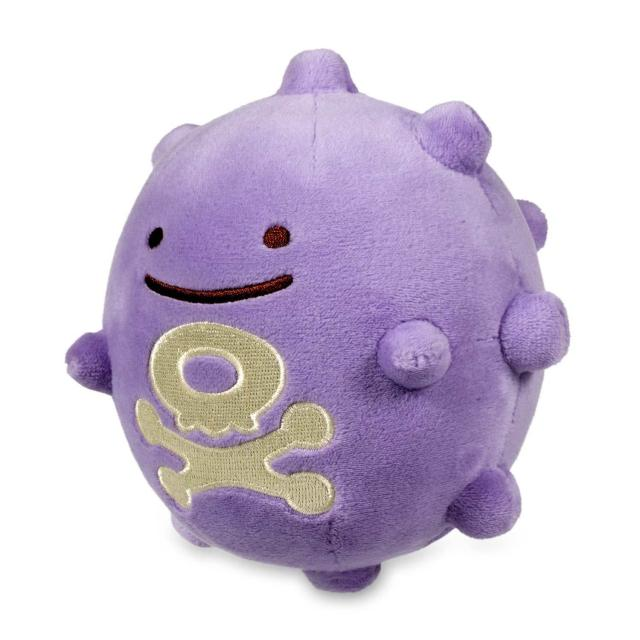Koffing: (89, 46, 570, 586)
